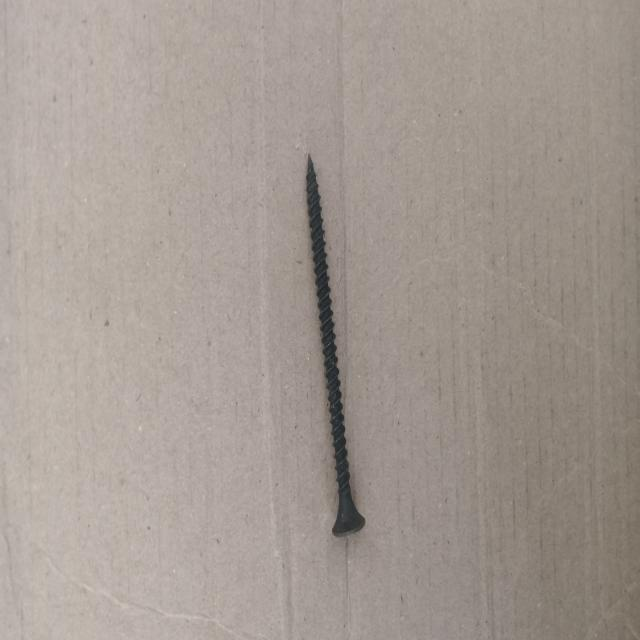screw: (305, 152, 368, 542)
